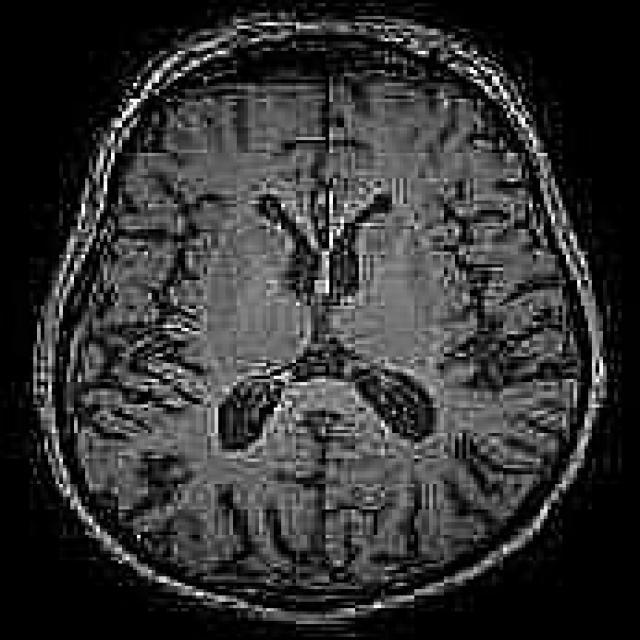notumor: (33, 16, 599, 611)
